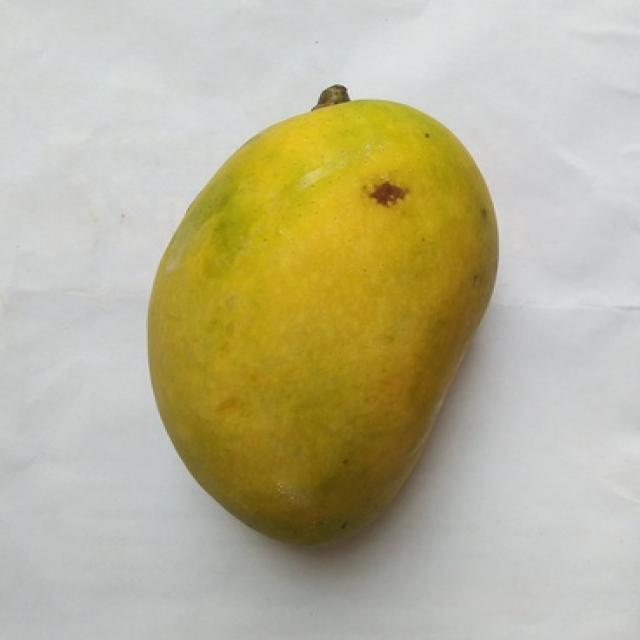Mango: (150, 101, 496, 540)
